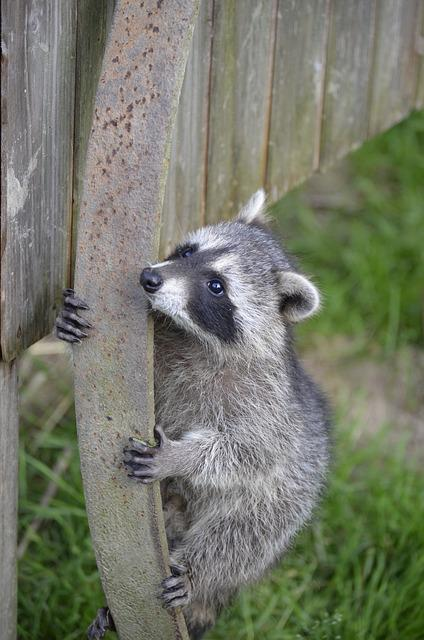raccoon: (114, 188, 339, 622)
